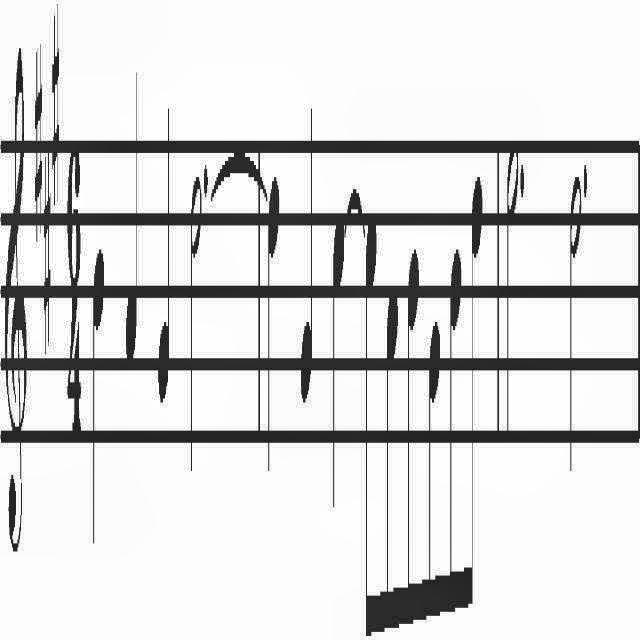Bass-clef: (4, 45, 28, 552)
Diez: (34, 33, 42, 247), (52, 11, 60, 210), (43, 156, 51, 344)
Eighth-note: (465, 169, 483, 623), (362, 206, 378, 638), (404, 243, 421, 624), (446, 238, 462, 634), (383, 271, 399, 639), (426, 314, 442, 640)
Half-note: (566, 166, 582, 486), (189, 172, 203, 484), (506, 134, 518, 448)
Quarter-note: (300, 96, 314, 414), (267, 177, 281, 483), (92, 244, 105, 556), (157, 105, 170, 411), (125, 66, 138, 370), (332, 212, 344, 518)
